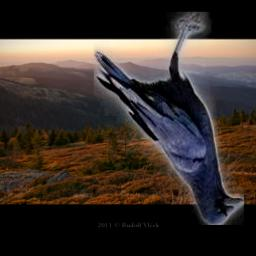Crow: (95, 13, 245, 226)
